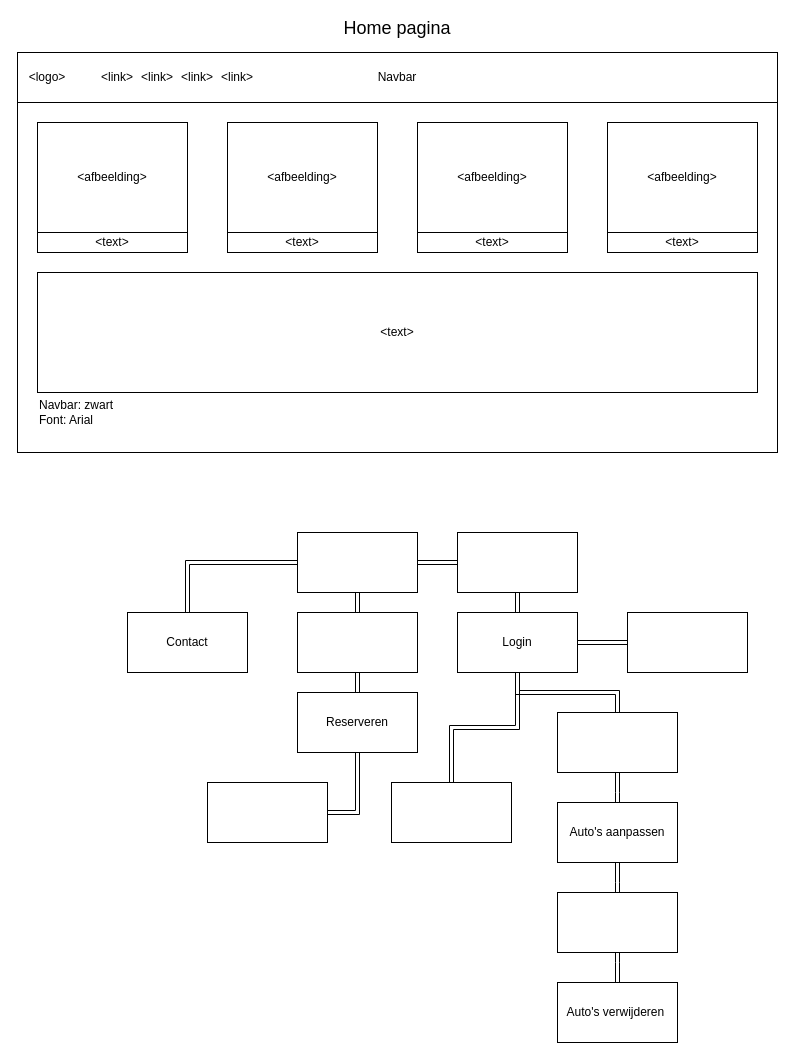
Image size: 795x1060. Some labels were removed from this diagram. The shapes that lost their labels are listed below. From the top down, each one's centre as x and y in pixels, then its label:
point (357, 562): Home
point (517, 562): Registreren
point (357, 642): Huren
point (687, 642): Gegevens wijzigen
point (617, 742): Medewerker
point (267, 812): Datum kiezen
point (451, 812): Factuur pagina
point (617, 922): Auto's toevoegen
